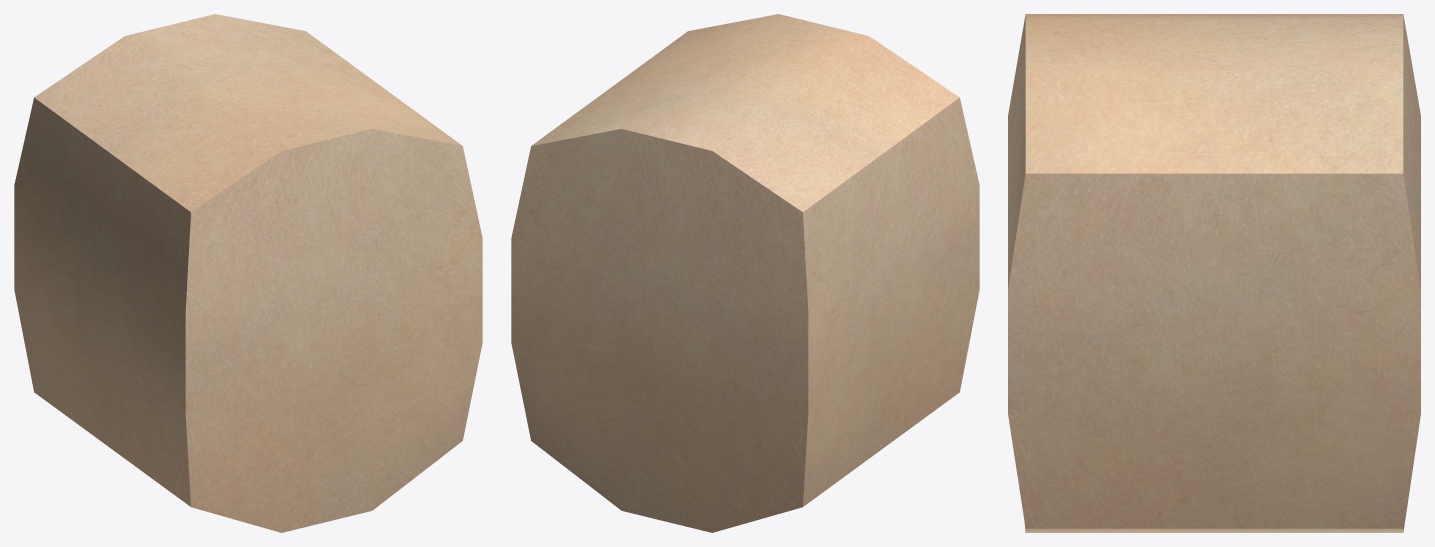
Rendered from head.fbx.
3 views of the same model, side by side, from view 1: azimuth 30°, elevation 25°; view 2: azimuth 150°, elevation 25°; view 3: azimuth 270°, elevation 25° (orthographic). The views are drawn at different scales.
Parts seen in each view (by area): view 1: Cube; view 2: Cube; view 3: Cube.
Part boxes in pixels (x1,y1,x2,y2): Cube: [14, 14, 482, 532]; Cube: [511, 14, 979, 532]; Cube: [1008, 14, 1420, 532].
Bounding box in the file's own units: 49.16 × 60.42 × 49.16.
